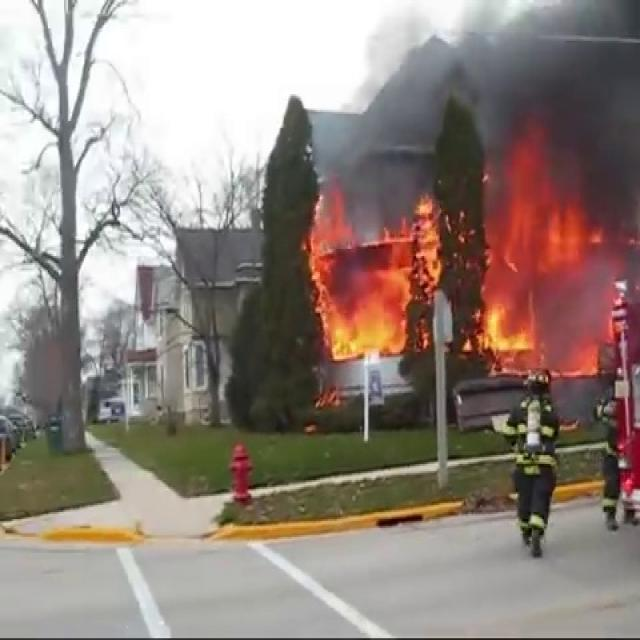Fire: (469, 143, 594, 371), (298, 180, 446, 366)
Smoke: (332, 0, 640, 203)
